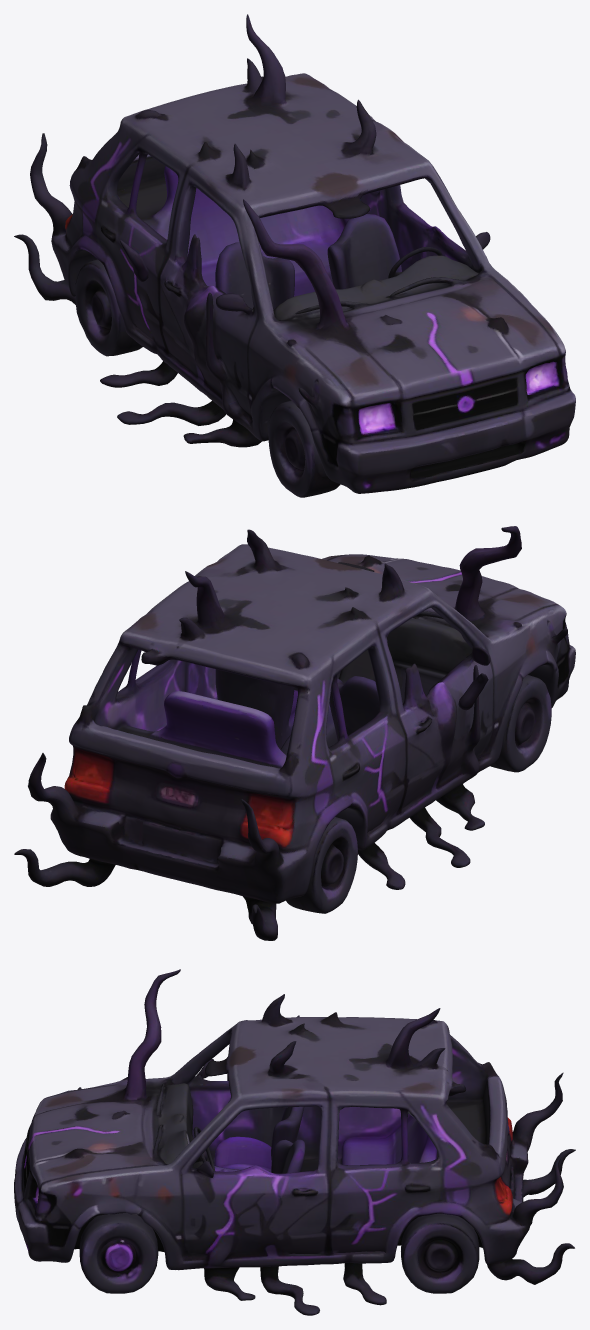
Rendered from SM_Vehicle_FantasyCar_01.fbx.
3 views of the same model, one above another, from view 1: azimuth 30°, elevation 25°; view 2: azimuth 150°, elevation 25°; view 3: azimuth 270°, elevation 25° (orthographic). The views are drawn at different scales.
Parts seen in each view (by area): view 1: SM_Vehicle_FantasyCar_01; view 2: SM_Vehicle_FantasyCar_01; view 3: SM_Vehicle_FantasyCar_01.
Part boxes in pixels (x1=…): SM_Vehicle_FantasyCar_01: x1=14, y1=14, x2=575, y2=497; SM_Vehicle_FantasyCar_01: x1=14, y1=526, x2=575, y2=940; SM_Vehicle_FantasyCar_01: x1=14, y1=969, x2=575, y2=1315.
Size of the model in its own units: 0.6004 by 0.4899 by 0.9898.
1 material, 1 textured.
